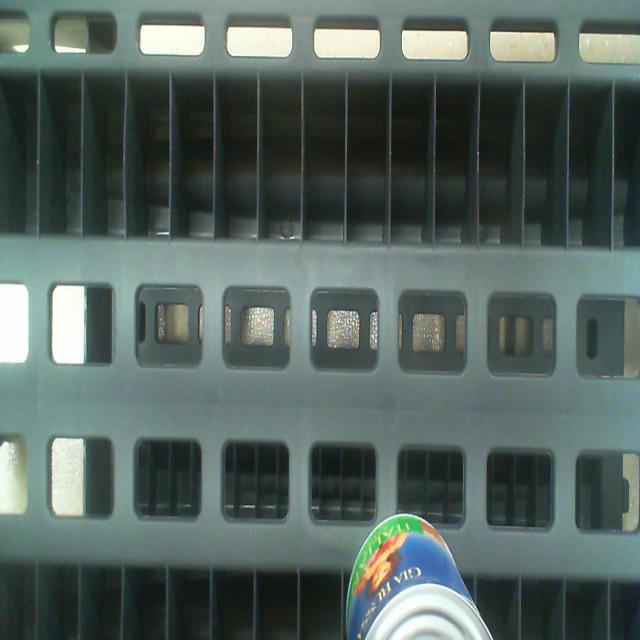can: (359, 582, 496, 640)
